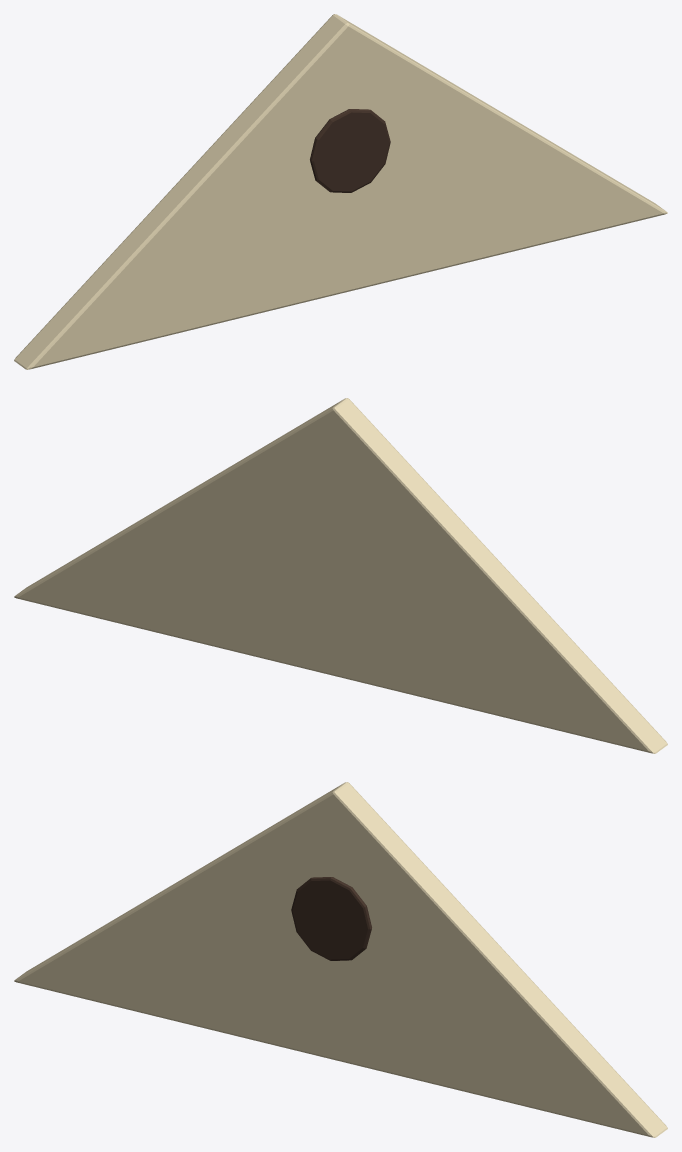
The model's file is gable_end_4m__finish.glb.
3 views of the same model, one above another, from view 1: azimuth 30°, elevation 25°; view 2: azimuth 150°, elevation 25°; view 3: azimuth 330°, elevation 25° (orthographic).
Parts seen in each view (by area): view 1: gable_end_4m__finish__mesh_00; view 2: gable_end_4m__finish__mesh_00; view 3: gable_end_4m__finish__mesh_00.
Part boxes in pixels (box(x1,y1,x2,y2)): gable_end_4m__finish__mesh_00: box(14, 14, 667, 369); gable_end_4m__finish__mesh_00: box(14, 398, 667, 753); gable_end_4m__finish__mesh_00: box(14, 782, 667, 1137).
Bounding box in the file's own units: 3.98 × 1.59 × 0.195.
